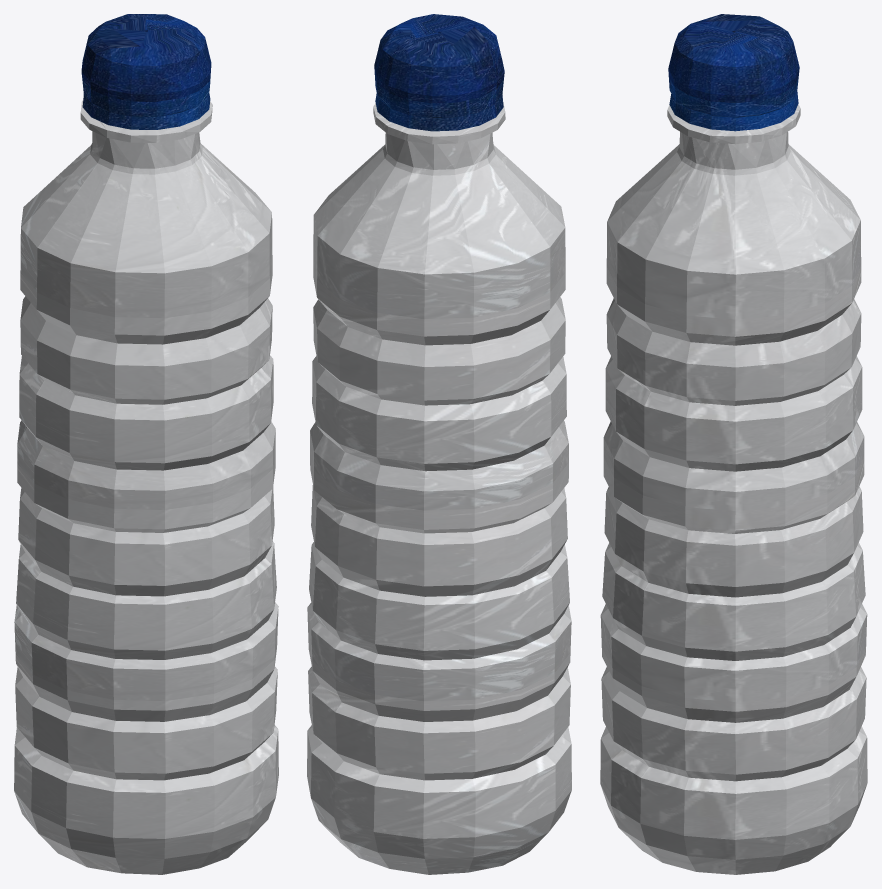
The model's file is botellaplastico.fbx.
3 views of the same model, side by side, from view 1: azimuth 30°, elevation 25°; view 2: azimuth 150°, elevation 25°; view 3: azimuth 270°, elevation 25° (orthographic).
Visible parts, largest first — view 1: Plane.001; view 2: Plane.001; view 3: Plane.001.
Part boxes in pixels (x1,y1,x2,y2): Plane.001: (14,14,278,874); Plane.001: (307,14,571,874); Plane.001: (600,14,867,874).
Size of the model in its own units: 127 by 423 by 127.
Materials: 2 (2 with a texture image).
